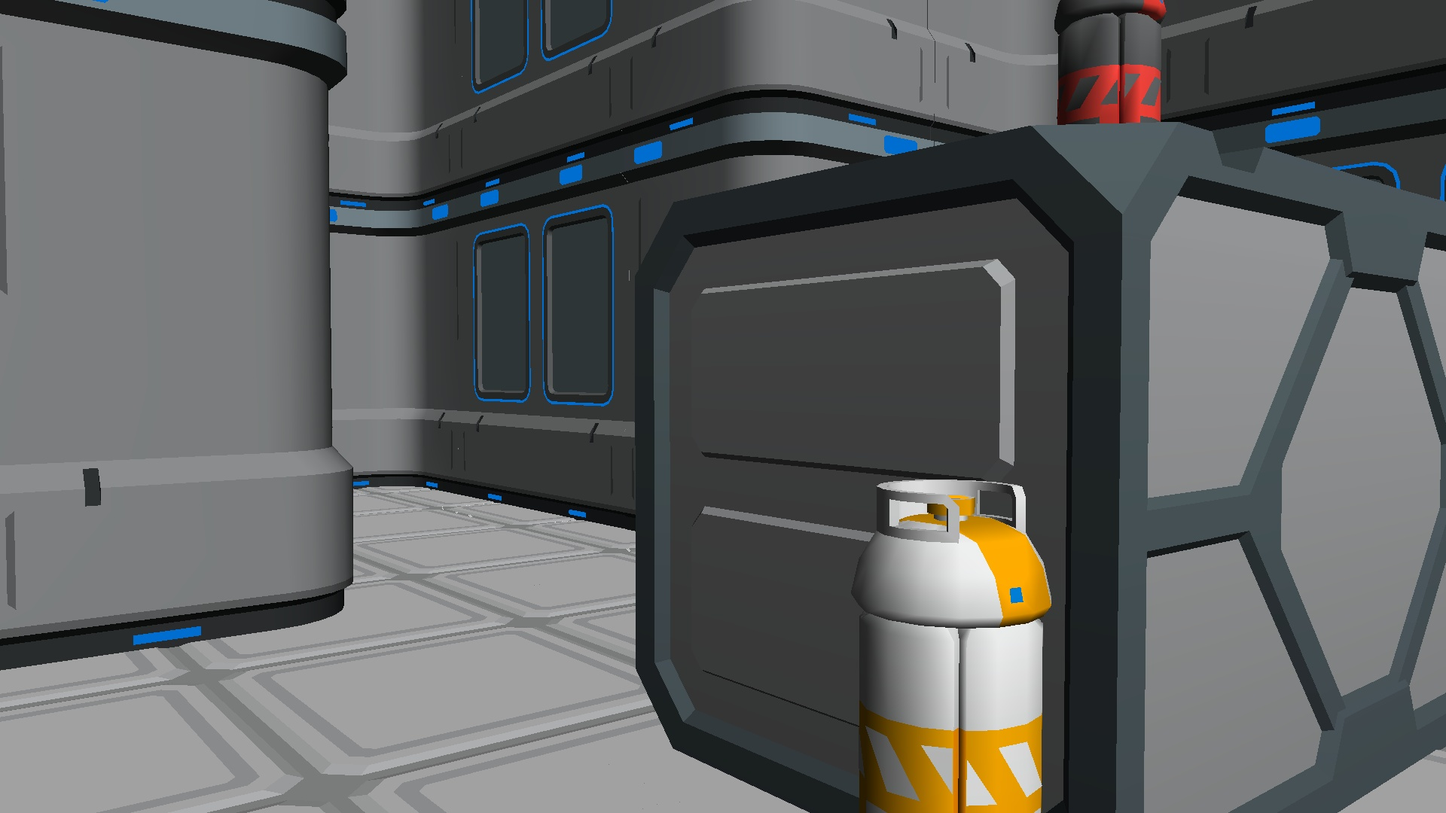red barrel: (1054, 0, 1167, 125)
yellow barrel: (851, 479, 1052, 813)
